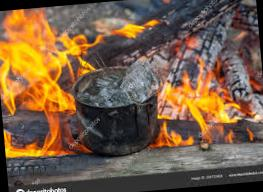Fire: (0, 9, 103, 161), (151, 70, 242, 148)
